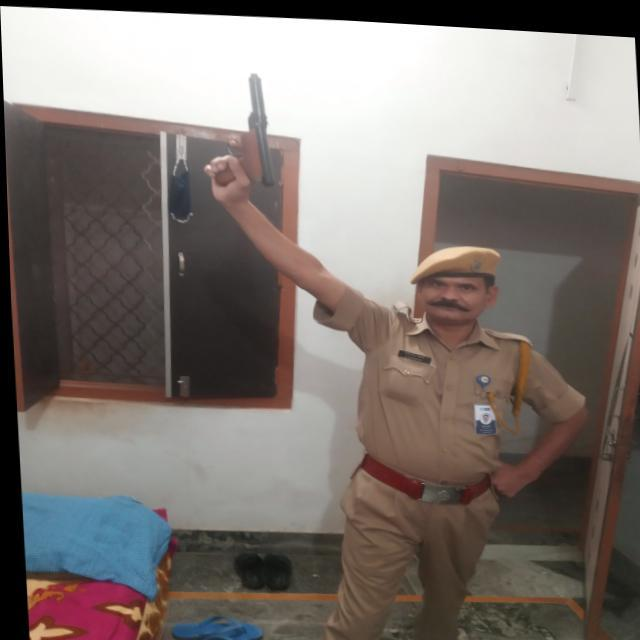weapon: (196, 64, 306, 197)
